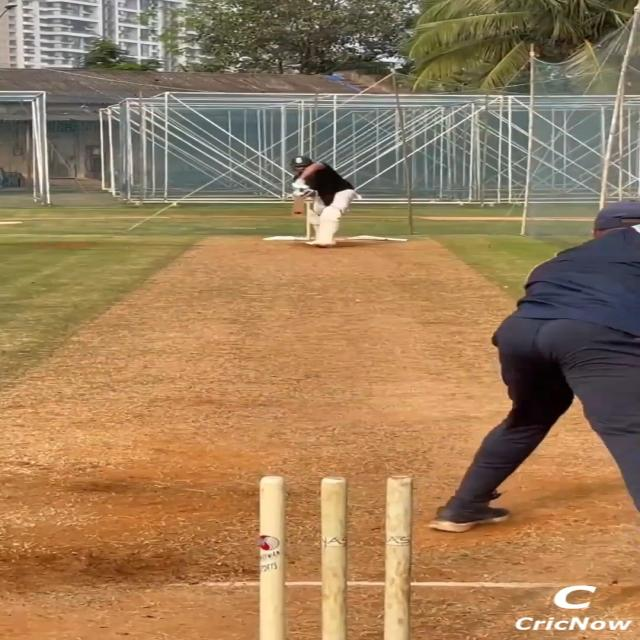stump: (256, 474, 412, 640)
